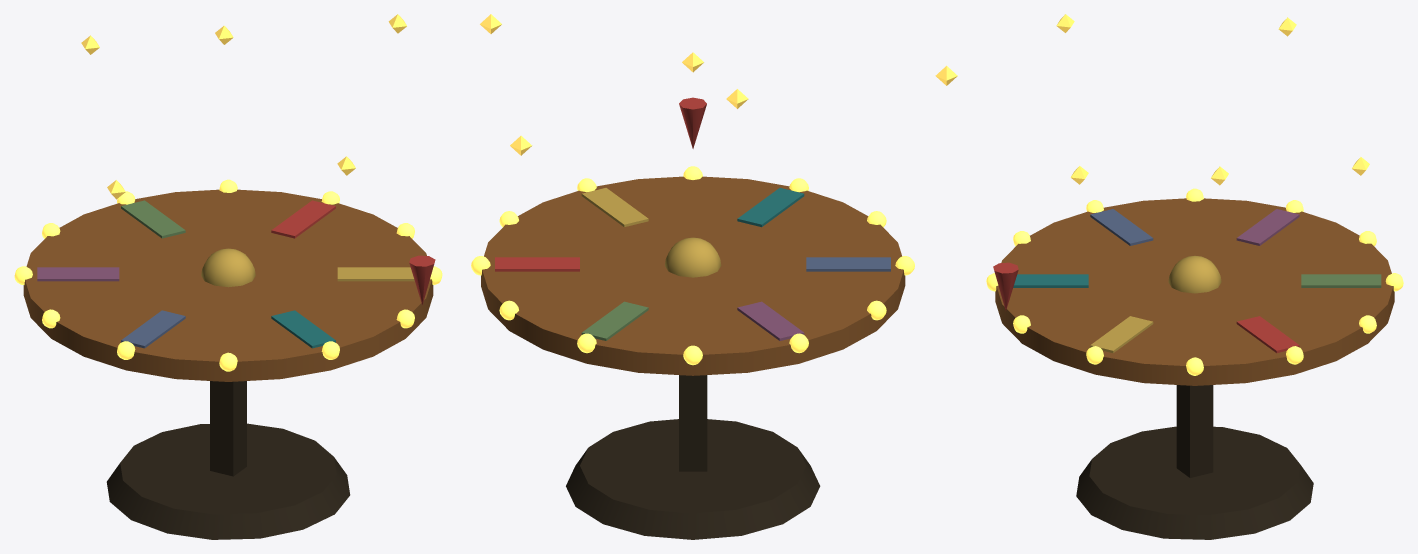
File: lottery_wheel.glb
The picture shows the model from 3 angles, left to right: view 1: azimuth 30°, elevation 25°; view 2: azimuth 150°, elevation 25°; view 3: azimuth 270°, elevation 25°; orthographic projection. The views are drawn at different scales.
Bounding box in the file's own units: 1.59 × 1.78 × 1.57.
